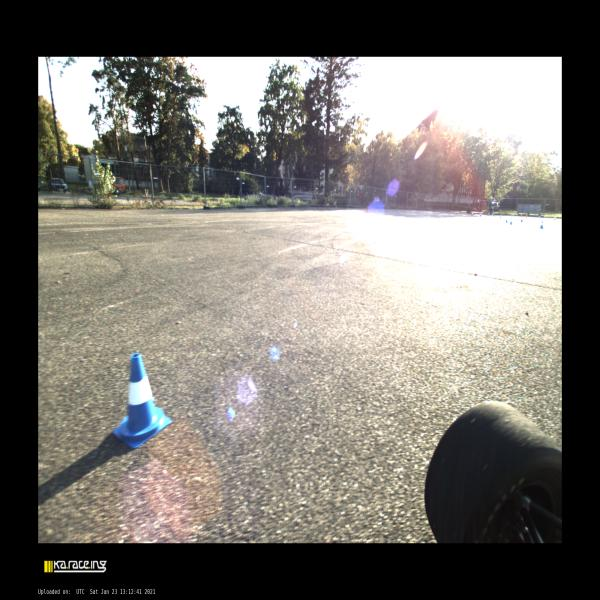blue_cone: (112, 352, 172, 448), (539, 221, 544, 229), (505, 218, 508, 223), (510, 218, 512, 224), (520, 217, 522, 222), (500, 214, 502, 219), (479, 213, 482, 216), (471, 212, 473, 216), (488, 212, 490, 216), (539, 215, 540, 218)
yellow_cone: (554, 217, 556, 222), (526, 215, 527, 219)
